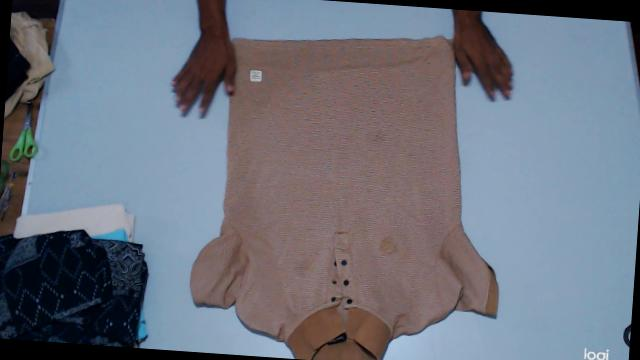new-garment: (191, 36, 497, 360)
